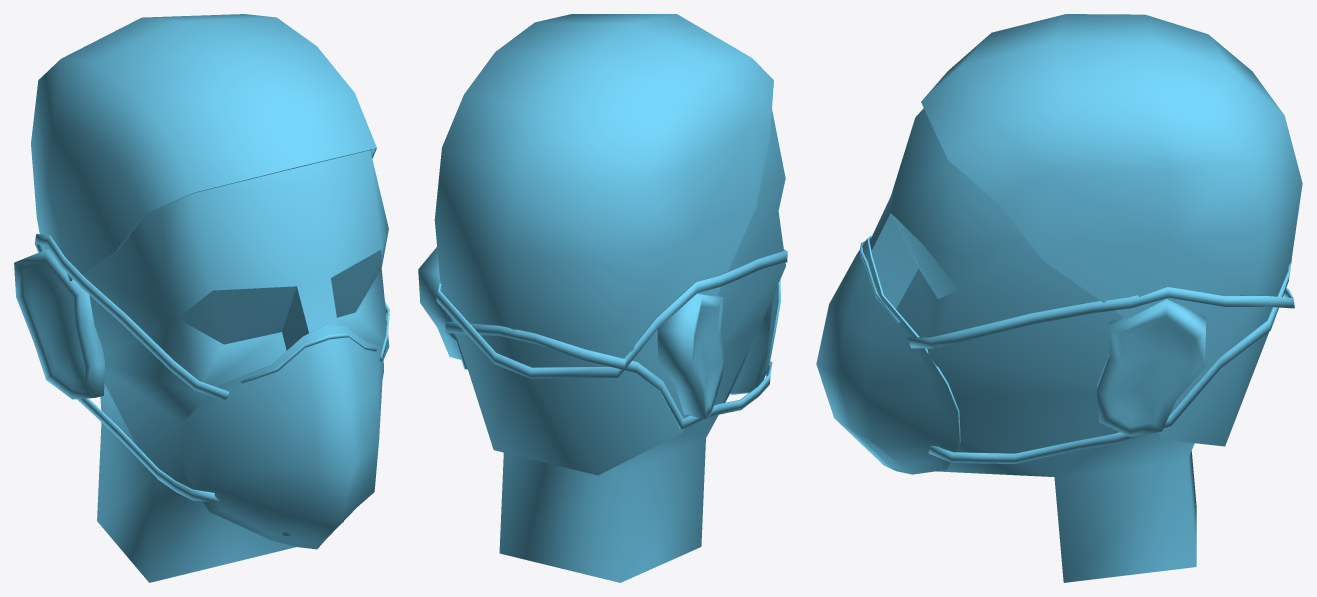
File: headMaskMale_tangled.FBX
3 views of the same model, side by side, from view 1: azimuth 30°, elevation 25°; view 2: azimuth 150°, elevation 25°; view 3: azimuth 270°, elevation 25° (orthographic). The views are drawn at different scales.
Parts seen in each view (by area): view 1: head, hair2, maskN95_tangled, ear; view 2: hair2, head, maskN95_tangled, ear; view 3: hair2, head, maskN95_tangled, ear.
Part boxes in pixels (x1=…): head: x1=82, y1=150, x2=389, y2=582; hair2: x1=31, y1=14, x2=376, y2=297; maskN95_tangled: x1=34, y1=234, x2=389, y2=549; ear: x1=14, y1=249, x2=104, y2=399; hair2: x1=434, y1=14, x2=773, y2=475; head: x1=499, y1=110, x2=785, y2=582; maskN95_tangled: x1=436, y1=249, x2=787, y2=429; ear: x1=418, y1=247, x2=725, y2=419; hair2: x1=921, y1=14, x2=1302, y2=446; head: x1=869, y1=108, x2=1196, y2=582; maskN95_tangled: x1=816, y1=235, x2=1294, y2=474; ear: x1=1097, y1=299, x2=1205, y2=436.
Bounding box in the file's own units: 14.19 × 24.71 × 21.64.
